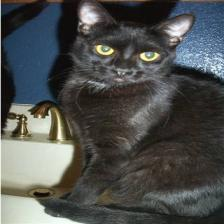cat: (47, 1, 208, 93)
